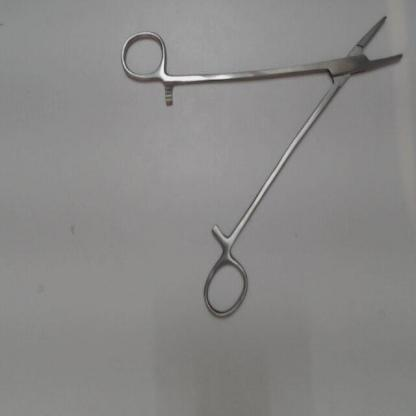8 Mayo Needle Holder: (115, 6, 413, 330)
